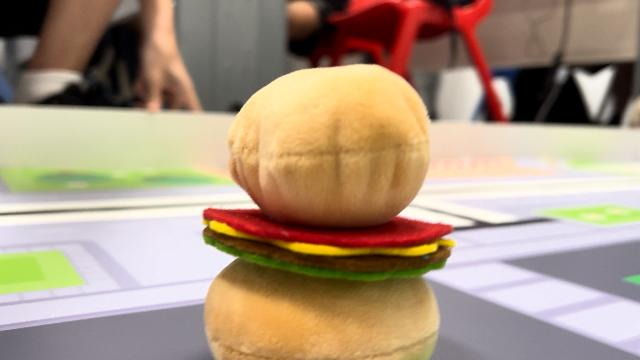burger: (202, 66, 454, 360)
